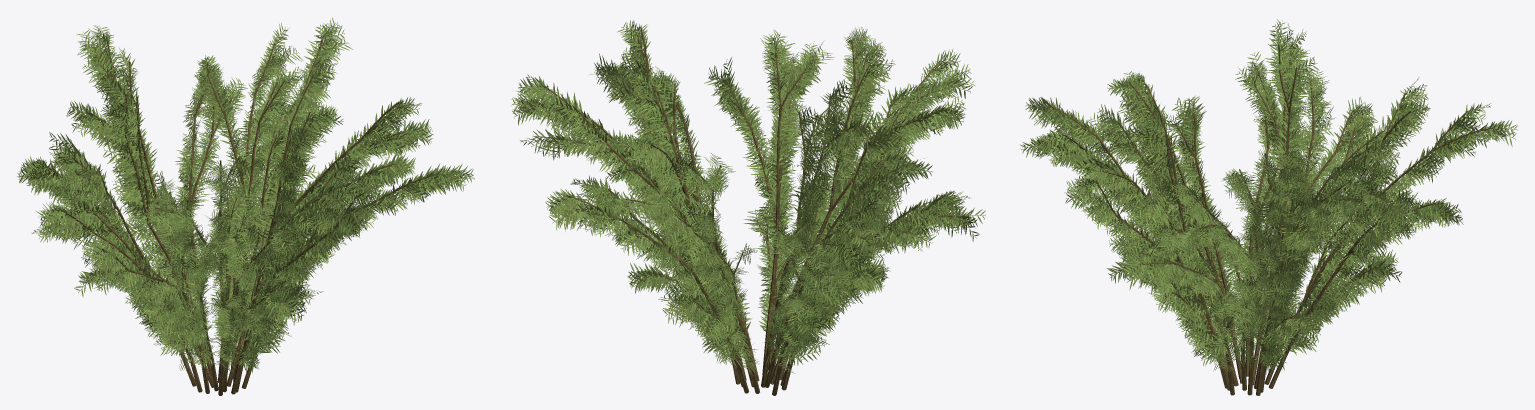
The model's file is willow_shrub_v01.glb.
3 renders of one model, left to right at view 1: azimuth 30°, elevation 25°; view 2: azimuth 150°, elevation 25°; view 3: azimuth 270°, elevation 25°, orthographic. The views are drawn at different scales.
Visible parts, largest first — view 1: willow_shrub_v01; view 2: willow_shrub_v01; view 3: willow_shrub_v01.
Boxes of the visible parts, bbox=[...] form: willow_shrub_v01: bbox=[17, 17, 474, 395]; willow_shrub_v01: bbox=[511, 20, 985, 395]; willow_shrub_v01: bbox=[1019, 19, 1517, 395].
Size of the model in its own units: 3.93 by 3.2 by 4.46.
Materials: 2 (2 with a texture image).
